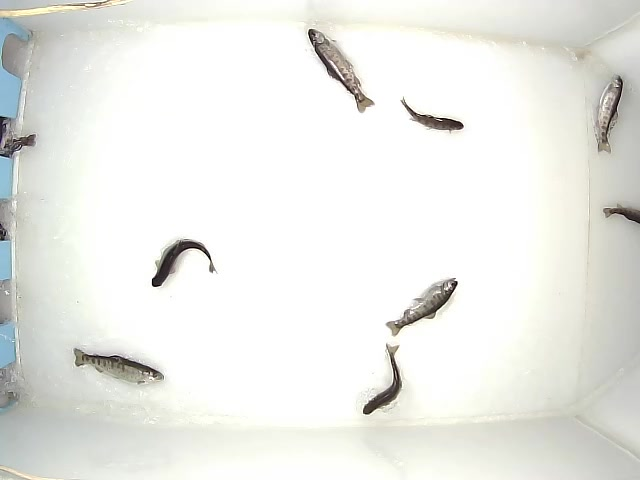fish: (308, 29, 375, 114), (384, 277, 458, 337), (73, 347, 164, 386), (152, 239, 218, 287), (363, 342, 402, 415), (400, 96, 464, 134), (594, 75, 623, 154)
